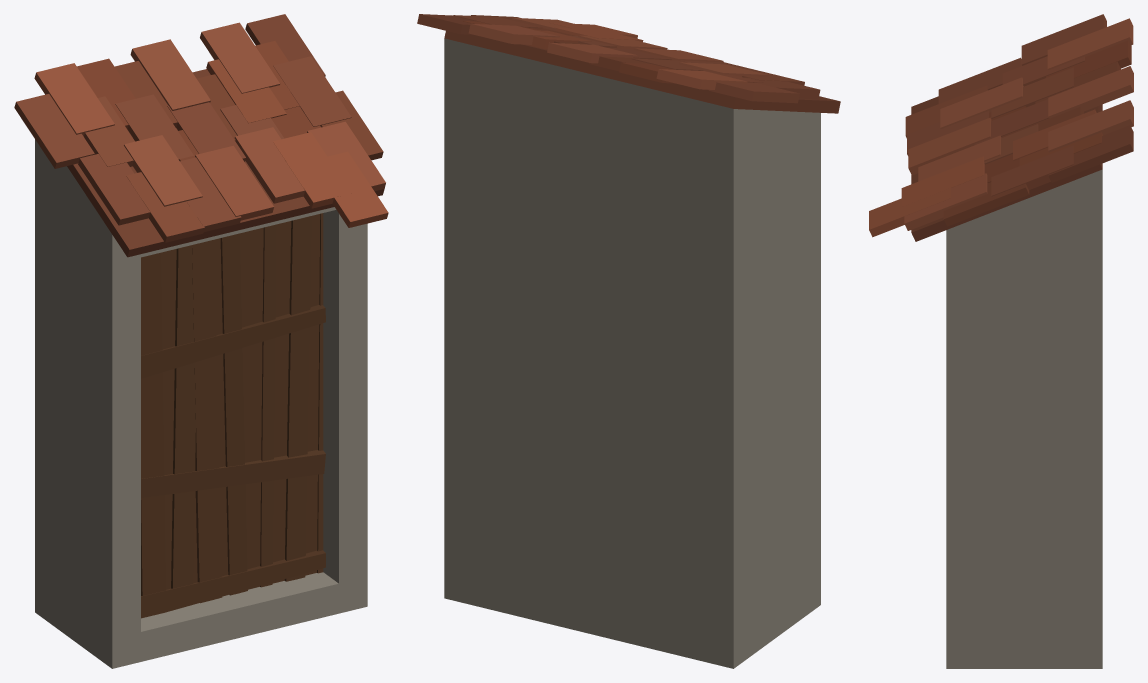
Rendered from porch_02.glb.
3 renders of one model, left to right at view 1: azimuth 30°, elevation 25°; view 2: azimuth 150°, elevation 25°; view 3: azimuth 270°, elevation 25°, orthographic. The views are drawn at different scales.
Visible parts, largest first — view 1: door_porch_02; view 2: door_porch_02; view 3: door_porch_02.
Part boxes in pixels (box(x1,y1,x2,y2)): door_porch_02: box(14, 14, 388, 668); door_porch_02: box(417, 14, 840, 668); door_porch_02: box(869, 14, 1133, 668).
Bounding box in the file's own units: 1.51 × 2.63 × 1.19.
